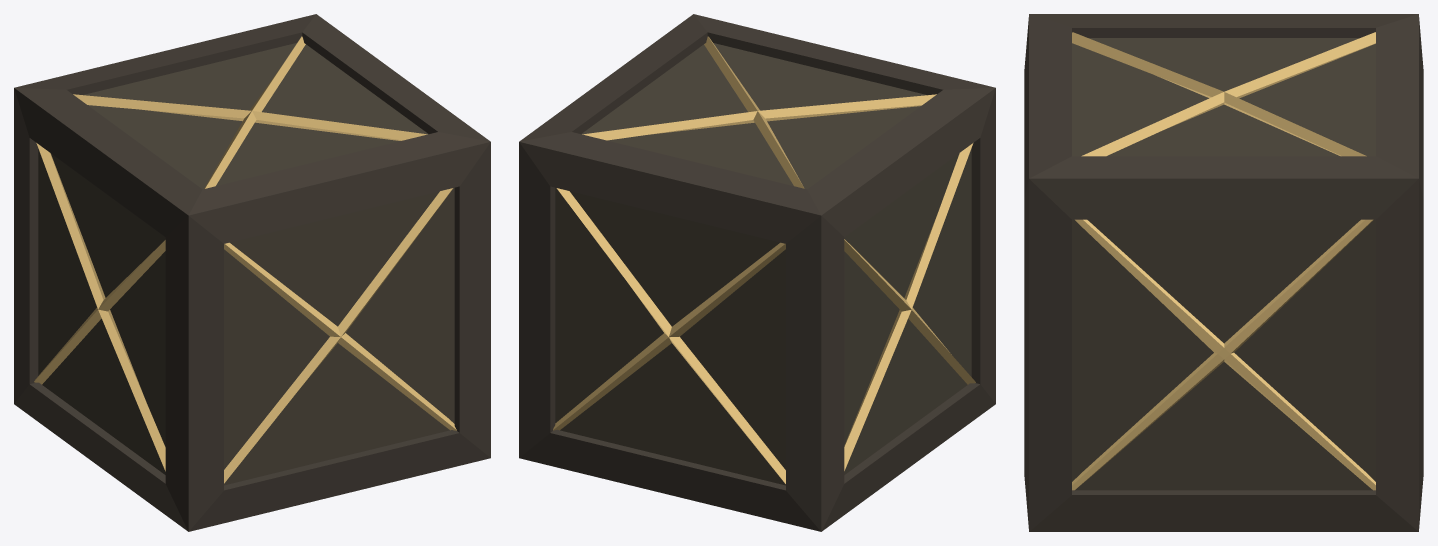
The model's file is Crate.fbx.
3 views of the same model, side by side, from view 1: azimuth 30°, elevation 25°; view 2: azimuth 150°, elevation 25°; view 3: azimuth 270°, elevation 25° (orthographic). The views are drawn at different scales.
Visible parts, largest first — view 1: Cube.002; view 2: Cube.002; view 3: Cube.002.
Part boxes in pixels (x1,y1,x2,y2): Cube.002: [14, 14, 490, 531]; Cube.002: [519, 14, 995, 531]; Cube.002: [1024, 14, 1423, 531].
Bounding box in the file's own units: 217 × 217 × 217.
